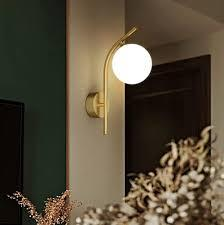door: (125, 55, 211, 199), (0, 99, 28, 225)
light: (80, 22, 154, 137)
